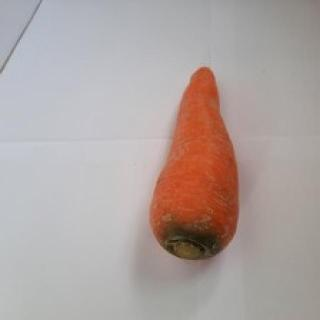carrot: (147, 64, 239, 262)
